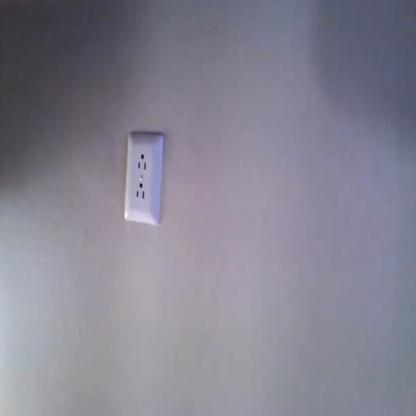OUTLET: (124, 132, 165, 225)
